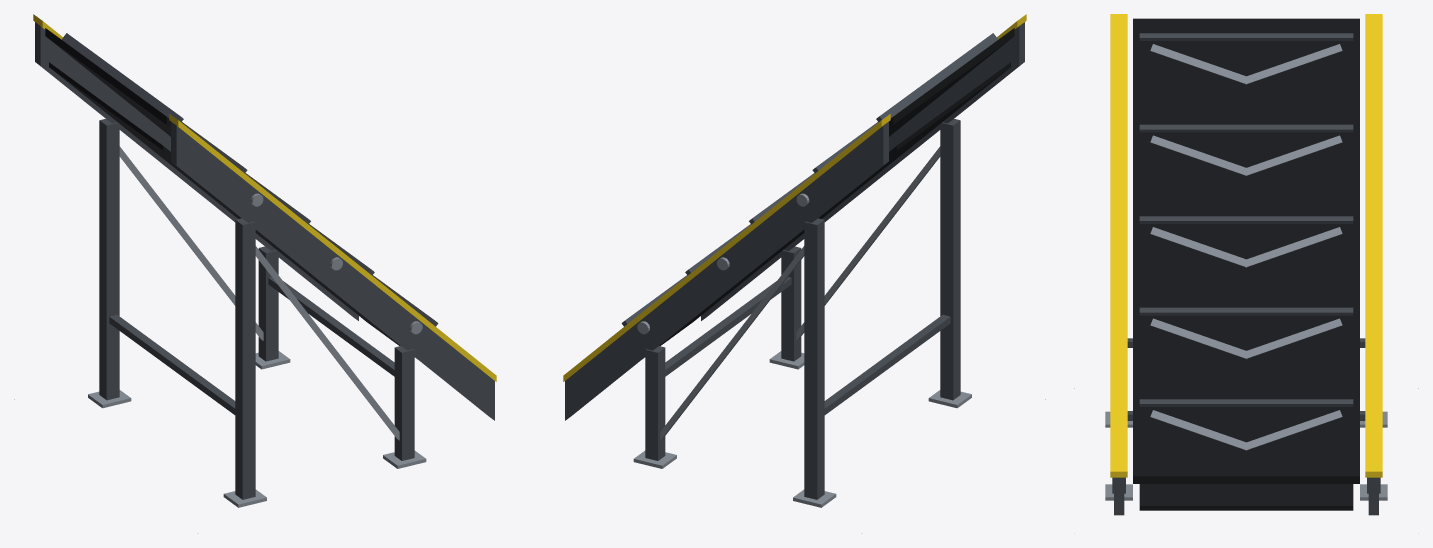
File: convoyeur_rampe_descente_t1.glb
3 renders of one model, left to right at view 1: azimuth 30°, elevation 25°; view 2: azimuth 150°, elevation 25°; view 3: azimuth 270°, elevation 25°, orthographic. The views are drawn at different scales.
Visible parts, largest first — view 1: pieces_acier_sombre.016, longeron_-1.024, pieces_acier.048, longeron_1.024, rive_-1.024, bande_acier_sombre.004, bande_retour.024, bande_porteuse.024; view 2: pieces_acier_sombre.016, longeron_1.024, pieces_acier.048, longeron_-1.024, rive_1.024, bande_acier_sombre.004, bande_retour.024, bande_porteuse.024; view 3: bande_porteuse.024, bande_acier_sombre.004, bande_acier.042, rive_1.024, rive_-1.024, bande_retour.024, pieces_acier.048, longeron_1.024, longeron_-1.024.
Boxes of the visible parts, x1,y1,x2,y2 form: pieces_acier_sombre.016: (99,119,414,499); longeron_-1.024: (171,121,494,420); pieces_acier.048: (88,146,426,507); longeron_1.024: (35,22,358,320); rive_-1.024: (169,114,496,381); bande_acier_sombre.004: (61,33,438,326); bande_retour.024: (49,62,416,358); bande_porteuse.024: (45,28,170,136); pieces_acier_sombre.016: (645,119,960,499); longeron_1.024: (565,121,888,420); pieces_acier.048: (633,146,971,507); longeron_-1.024: (701,22,1024,320); rive_1.024: (563,114,890,381); bande_acier_sombre.004: (621,33,998,326); bande_retour.024: (643,62,1010,358); bande_porteuse.024: (889,28,1014,136); bande_porteuse.024: (1133,18,1359,483); bande_acier_sombre.004: (1139,33,1353,406); bande_acier.042: (1150,44,1342,450); rive_1.024: (1365,14,1382,477); rive_-1.024: (1110,14,1127,477); bande_retour.024: (1139,484,1353,510); pieces_acier.048: (1105,411,1387,500); longeron_1.024: (1368,477,1378,515); longeron_-1.024: (1114,477,1124,515).
Size of the model in its own units: 1 by 1.2 by 1.
